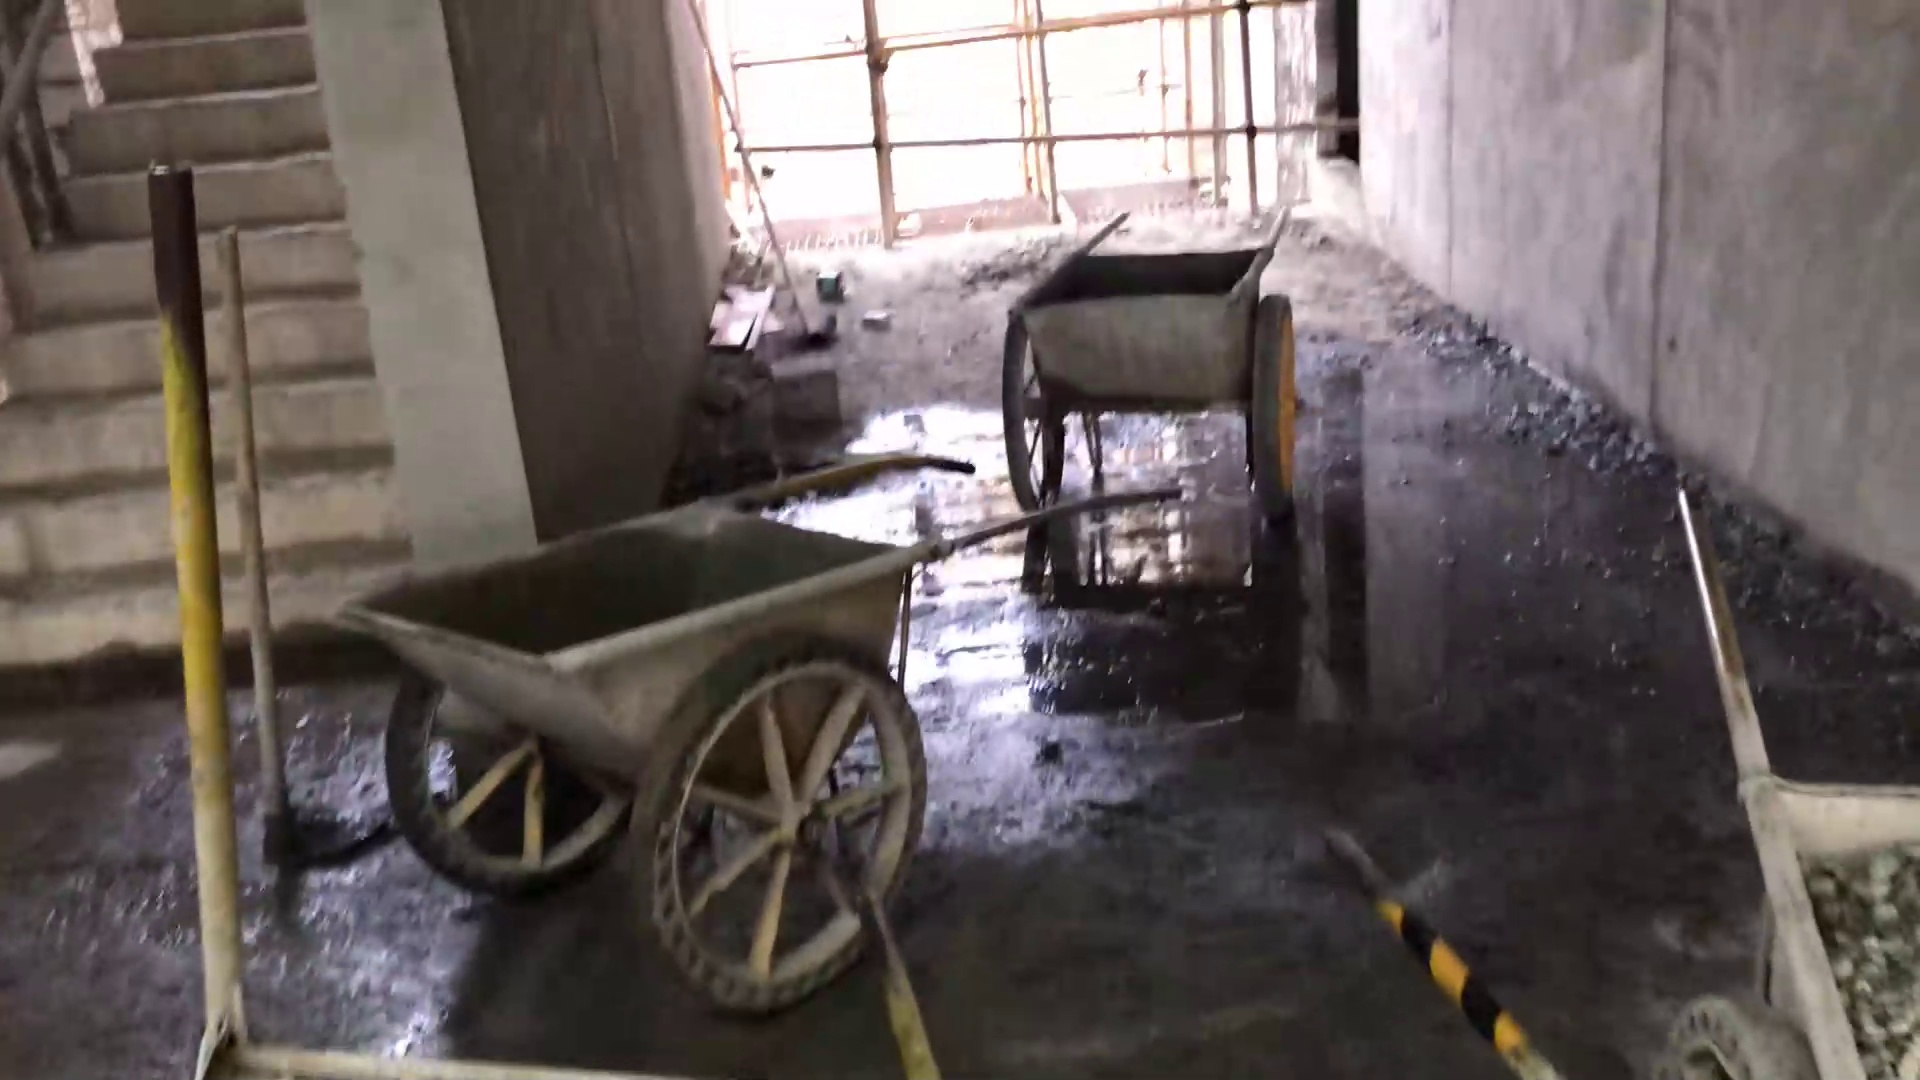handcart: (276, 464, 1236, 977), (1610, 477, 1917, 1072), (985, 200, 1333, 493)
